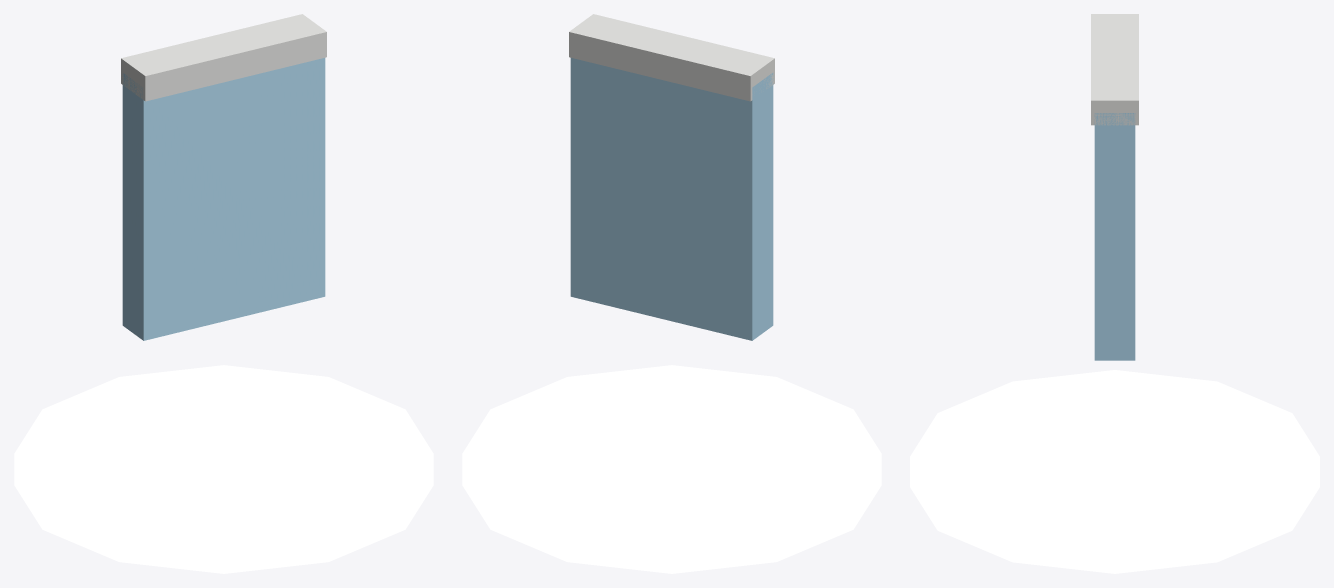
The model's file is PK_WaterSachet.glb.
The picture shows the model from 3 angles, left to right: view 1: azimuth 30°, elevation 25°; view 2: azimuth 150°, elevation 25°; view 3: azimuth 270°, elevation 25°; orthographic projection. The views are drawn at different scales.
Visible parts, largest first — view 1: PK_WaterSachet; view 2: PK_WaterSachet; view 3: PK_WaterSachet.
Boxes of the visible parts, <box> form: PK_WaterSachet: <box>14,14,433,573</box>; PK_WaterSachet: <box>462,14,881,573</box>; PK_WaterSachet: <box>910,14,1319,573</box>.
Bounding box in the file's own units: 0.6 × 0.695 × 0.6.
